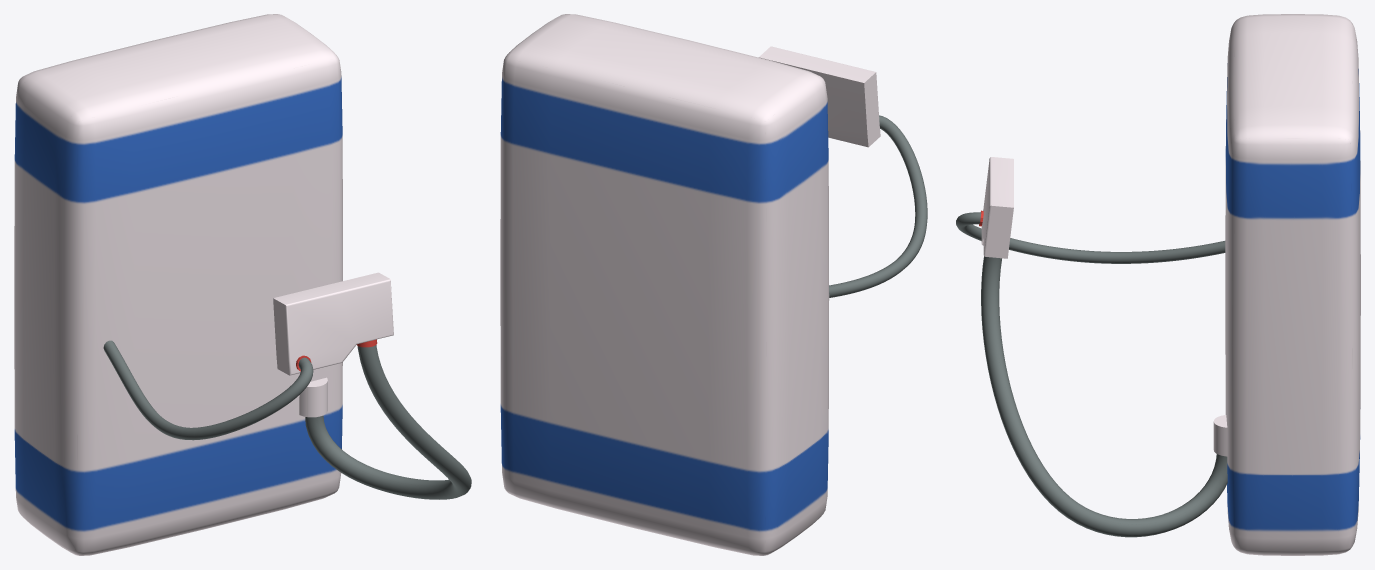
Rendered from Astronautbag.fbx.
3 renders of one model, left to right at view 1: azimuth 30°, elevation 25°; view 2: azimuth 150°, elevation 25°; view 3: azimuth 270°, elevation 25°, orthographic. The views are drawn at different scales.
Parts seen in each view (by area): view 1: Cube, Cube.001, NurbsCurve, NurbsCurve.001; view 2: Cube, Cube.001, NurbsCurve.001; view 3: Cube, NurbsCurve, NurbsCurve.001, Cube.001.
Boxes of the visible parts, x1,y1,x2,y2 form: Cube: (14, 14, 342, 555); Cube.001: (273, 272, 393, 375); NurbsCurve: (305, 345, 471, 499); NurbsCurve.001: (103, 340, 313, 440); Cube: (500, 14, 829, 555); Cube.001: (759, 46, 880, 147); NurbsCurve.001: (829, 115, 927, 297); Cube: (1213, 14, 1360, 555); NurbsCurve: (981, 256, 1227, 537); NurbsCurve.001: (956, 212, 1225, 263); Cube.001: (979, 157, 1013, 258).
Size of the model in its own units: 74.7 by 103 by 87.71.
